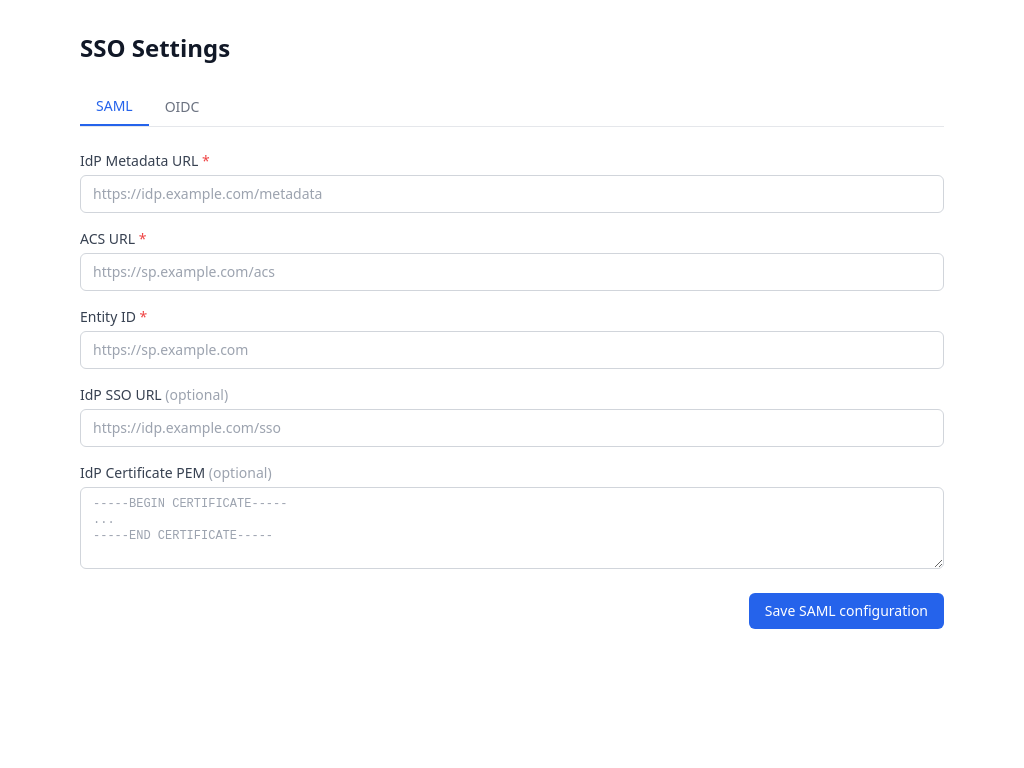
sso settings page › switches panels when a tab is clicked
This screenshot has width=1024, height=768.
Click the tab with test id "tab-oidc" at (182, 107), box [149,88,216,126]
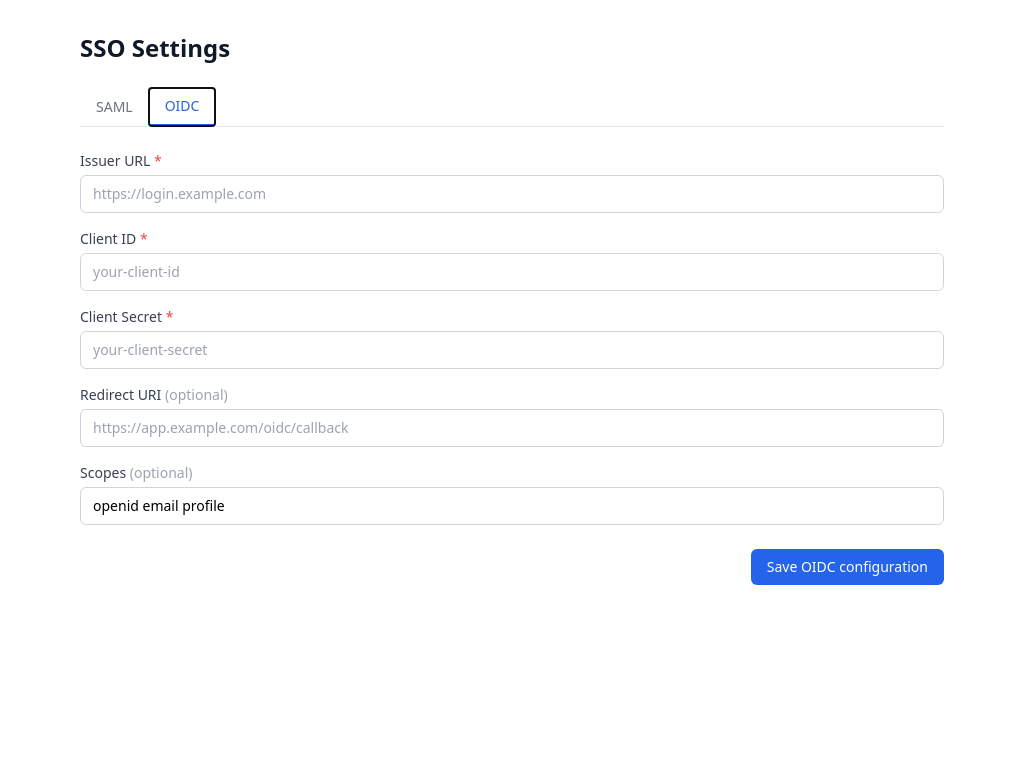
Result: the panel with test id "tabpanel-oidc" is shown at [80,127,944,585]
Result: the panel with test id "tabpanel-saml" is gone
